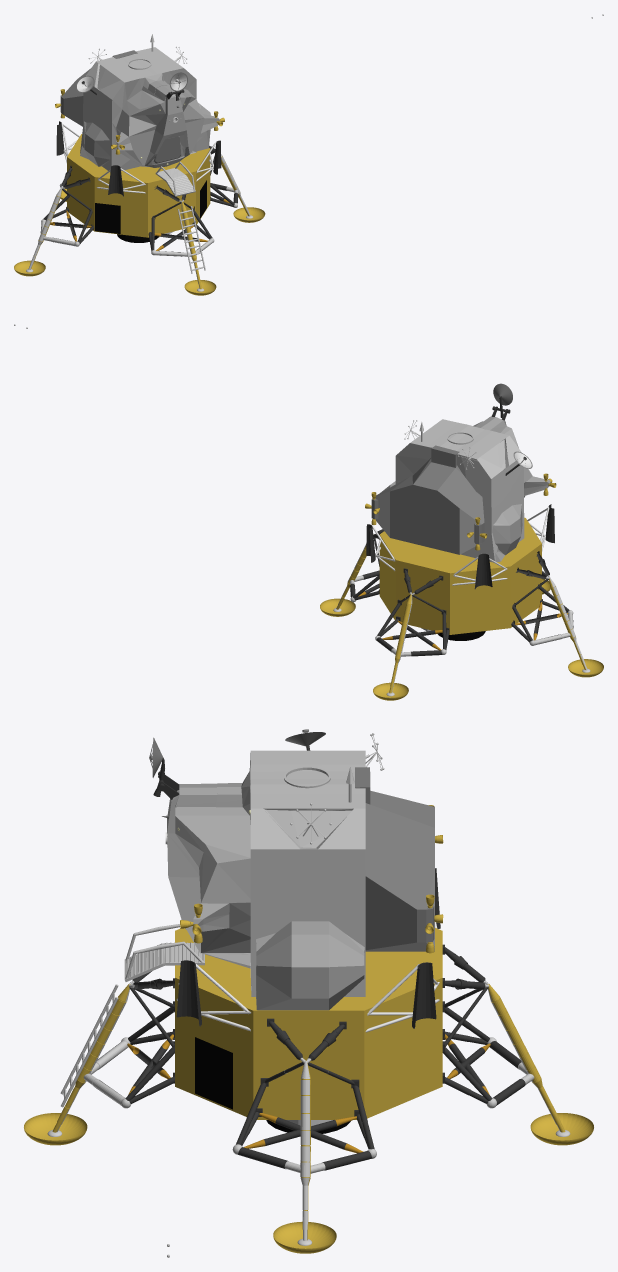
The model's file is Apollo.fbx.
3 views of the same model, one above another, from view 1: azimuth 30°, elevation 25°; view 2: azimuth 150°, elevation 25°; view 3: azimuth 270°, elevation 25° (orthographic). The views are drawn at different scales.
Visible parts, largest first — view 1: group31_15; view 2: group31_15; view 3: group31_15.
Part boxes in pixels (x1,y1,x2,y2): group31_15: (14, 14, 603, 295); group31_15: (14, 324, 603, 700); group31_15: (24, 729, 593, 1257).
Size of the model in its own units: 144 by 50.13 by 64.27.
